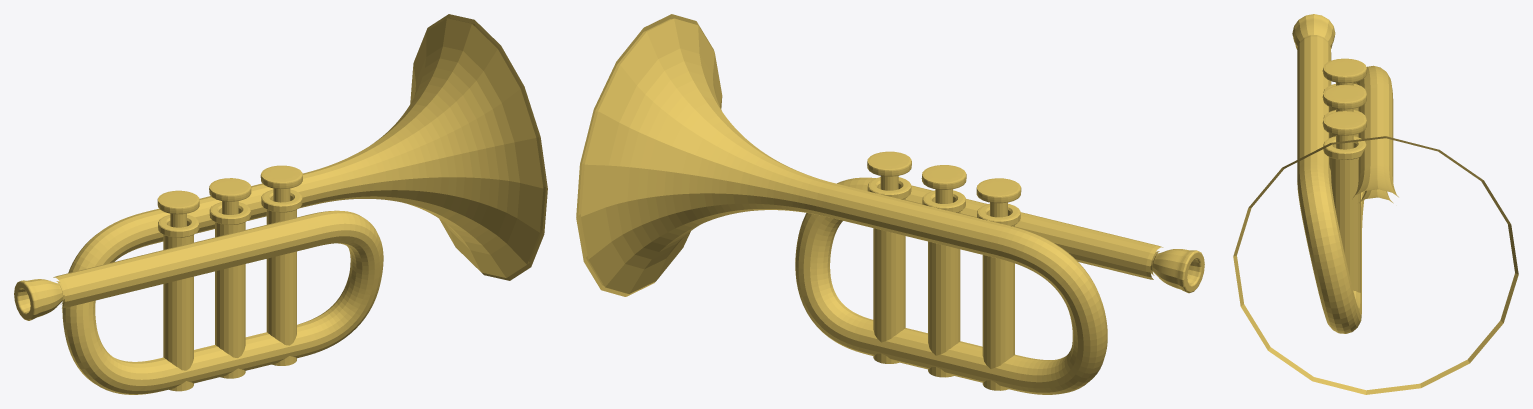
Rendered from band-trumpet.glb.
3 renders of one model, left to right at view 1: azimuth 30°, elevation 25°; view 2: azimuth 150°, elevation 25°; view 3: azimuth 270°, elevation 25°, orthographic. The views are drawn at different scales.
Parts seen in each view (by area): view 1: Trumpet.2; view 2: Trumpet.2; view 3: Trumpet.2.
Part boxes in pixels (x1,y1,x2,y2): Trumpet.2: (14, 14, 547, 394); Trumpet.2: (576, 14, 1204, 394); Trumpet.2: (1233, 14, 1518, 394).
Bounding box in the file's own units: 0.45 × 0.2428 × 0.2199.
